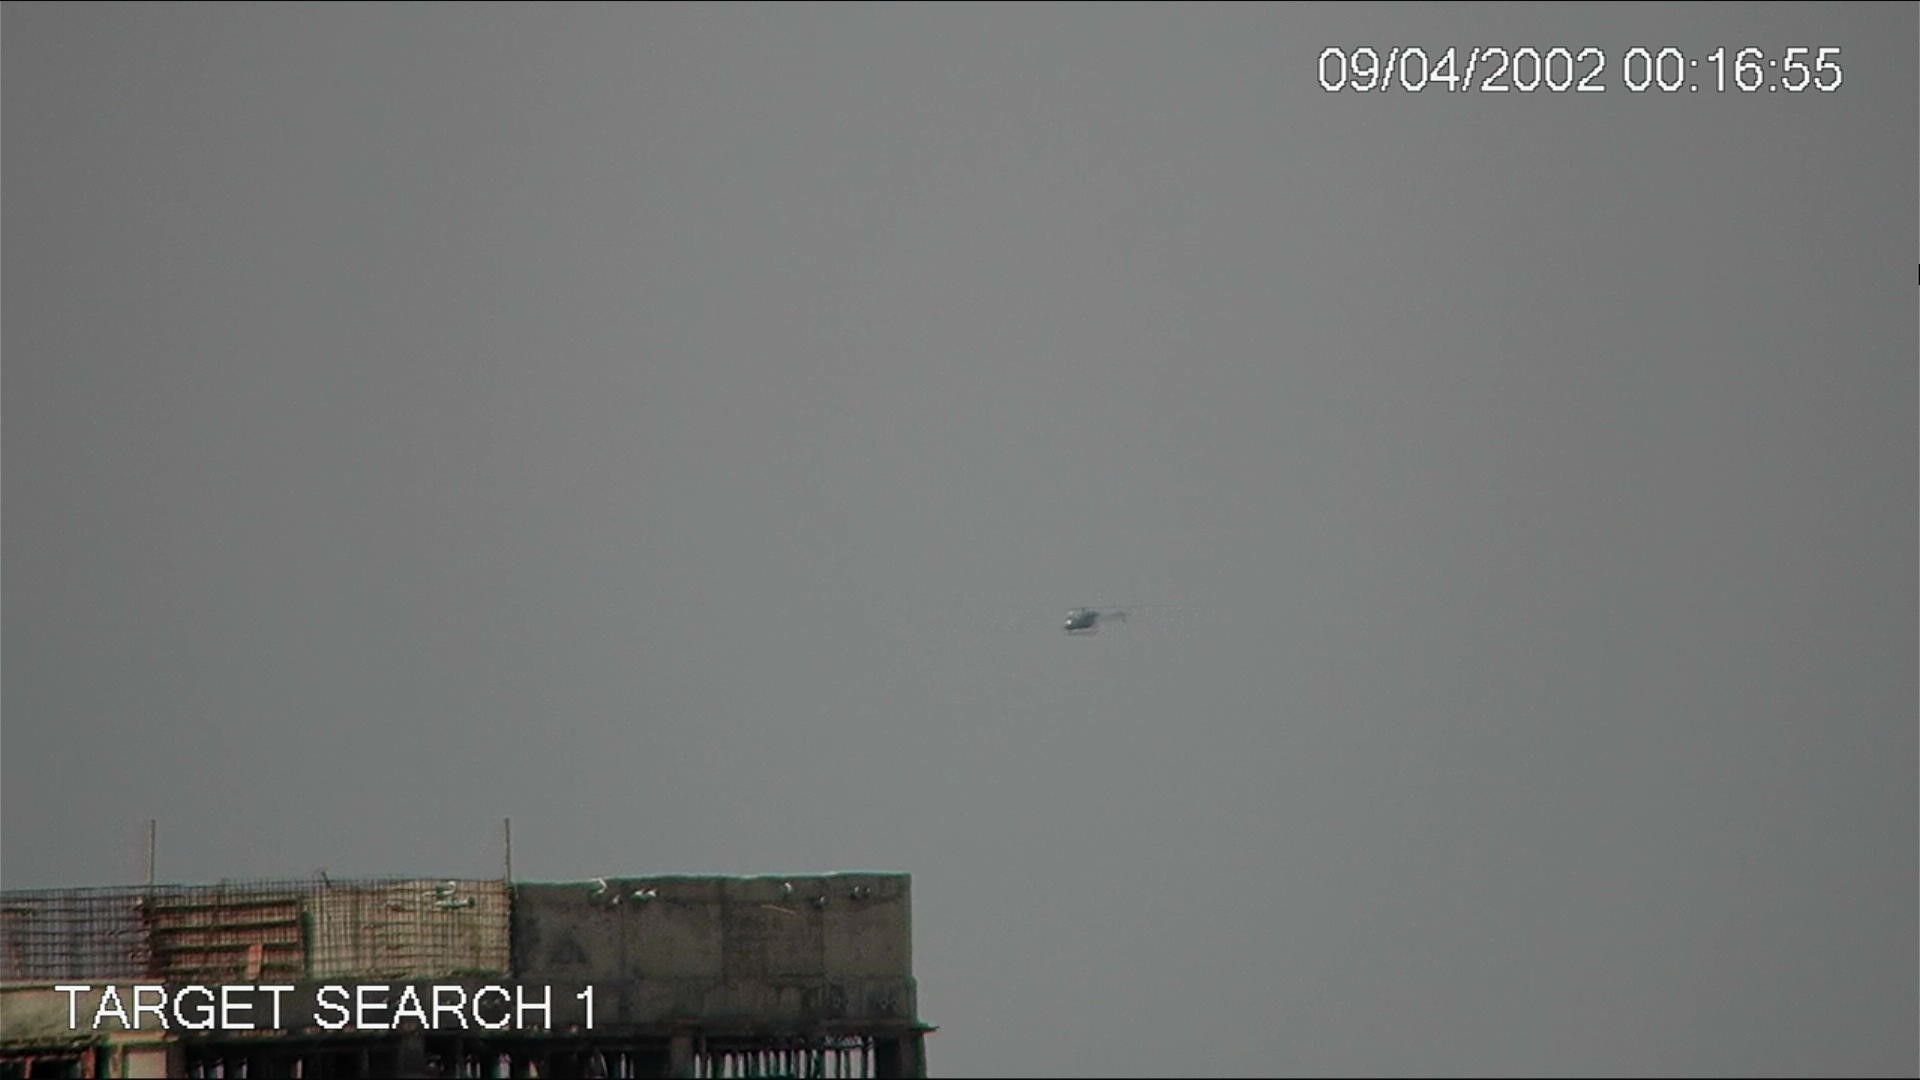SU_30: (1065, 607, 1098, 634)
